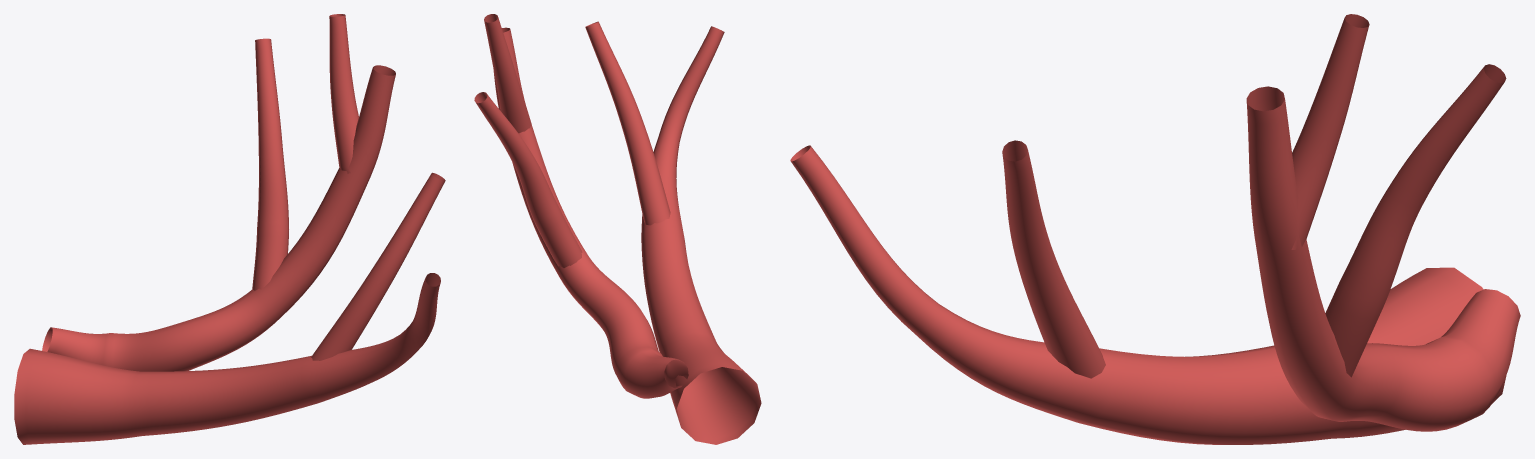
The picture shows the model from 3 angles, left to right: view 1: azimuth 30°, elevation 25°; view 2: azimuth 150°, elevation 25°; view 3: azimuth 270°, elevation 25°; orthographic projection. The views are drawn at different scales.
Visible parts, largest first — view 1: 左肺后段动脉; view 2: 左肺后段动脉; view 3: 左肺后段动脉.
Boxes of the visible parts, left/top/right/bottom form: 左肺后段动脉: left=14, top=14, right=445, bottom=444; 左肺后段动脉: left=474, top=14, right=761, bottom=444; 左肺后段动脉: left=790, top=14, right=1520, bottom=444.
Bounding box in the file's own units: 0.0716 × 0.0769 × 0.0829.
